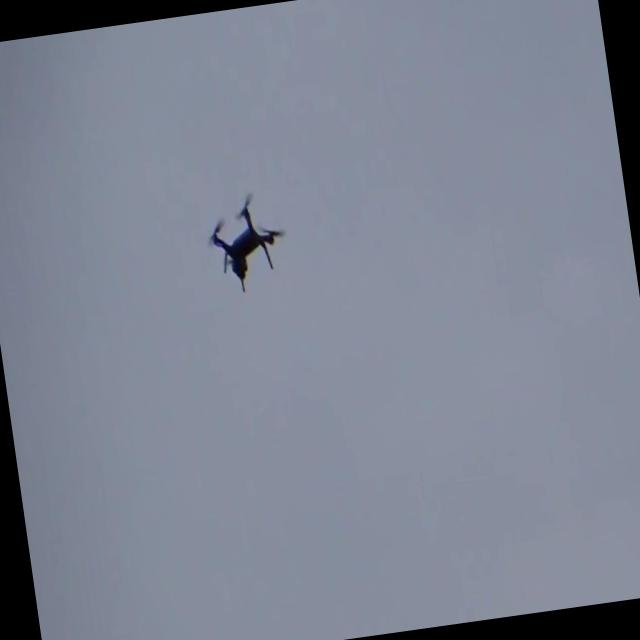drone: (205, 194, 283, 297)
